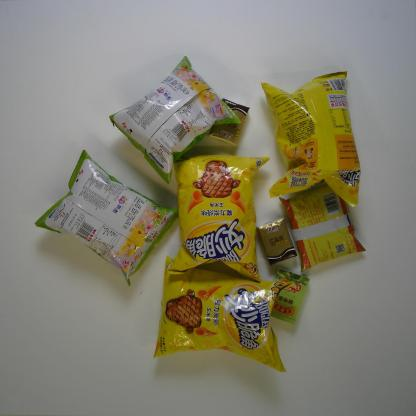Candy: (268, 267, 310, 326)
Puffed Food: (33, 148, 179, 288), (109, 55, 242, 186), (151, 253, 287, 373), (260, 69, 362, 207), (164, 154, 271, 283)
Seasoner: (278, 184, 366, 273)
Tissue: (256, 217, 298, 268), (208, 98, 250, 146)
